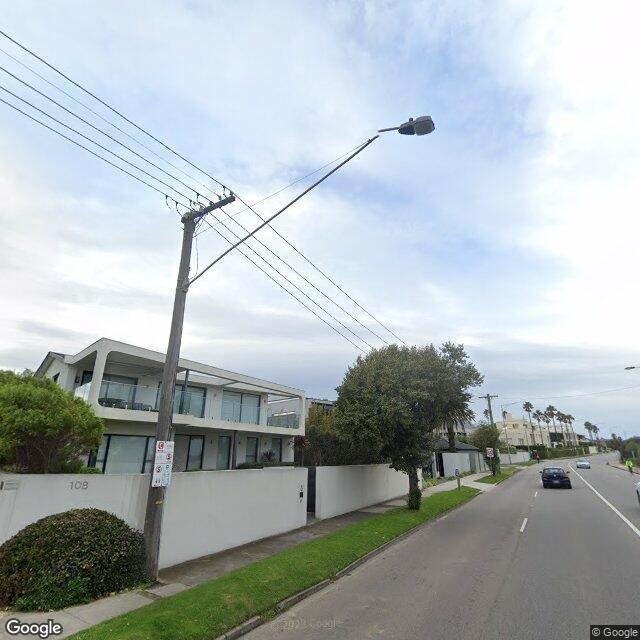crossarm: (181, 196, 235, 222), (478, 396, 498, 398)
streetlight: (183, 116, 435, 293), (624, 366, 640, 370)
timber-pole: (143, 212, 195, 582), (487, 394, 493, 426)
